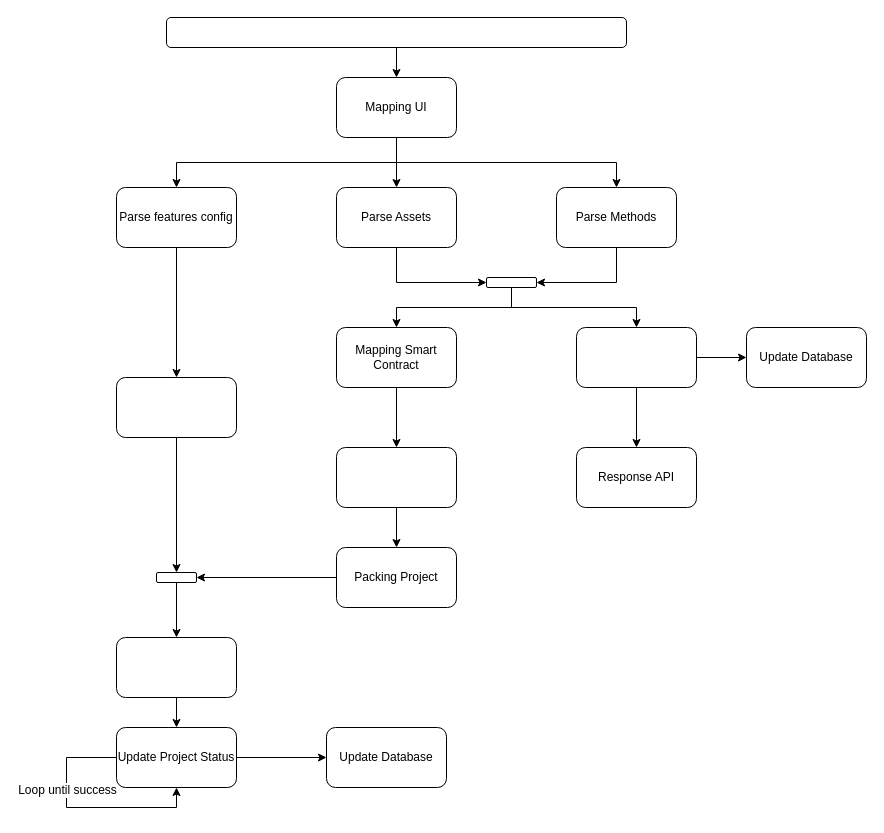
Some shapes in this 884 by 833 pixel diagram are drawn without their labels. Each missing label, with the centre of its shape:
"Deploy blockchain network" belongs at point (176, 407).
"Deploy Project" belongs at point (176, 667).
"Generate API Document" belongs at point (636, 357).
"Generate Smart Contract" belongs at point (396, 477).
"V-Endpoint" belongs at point (396, 32).
